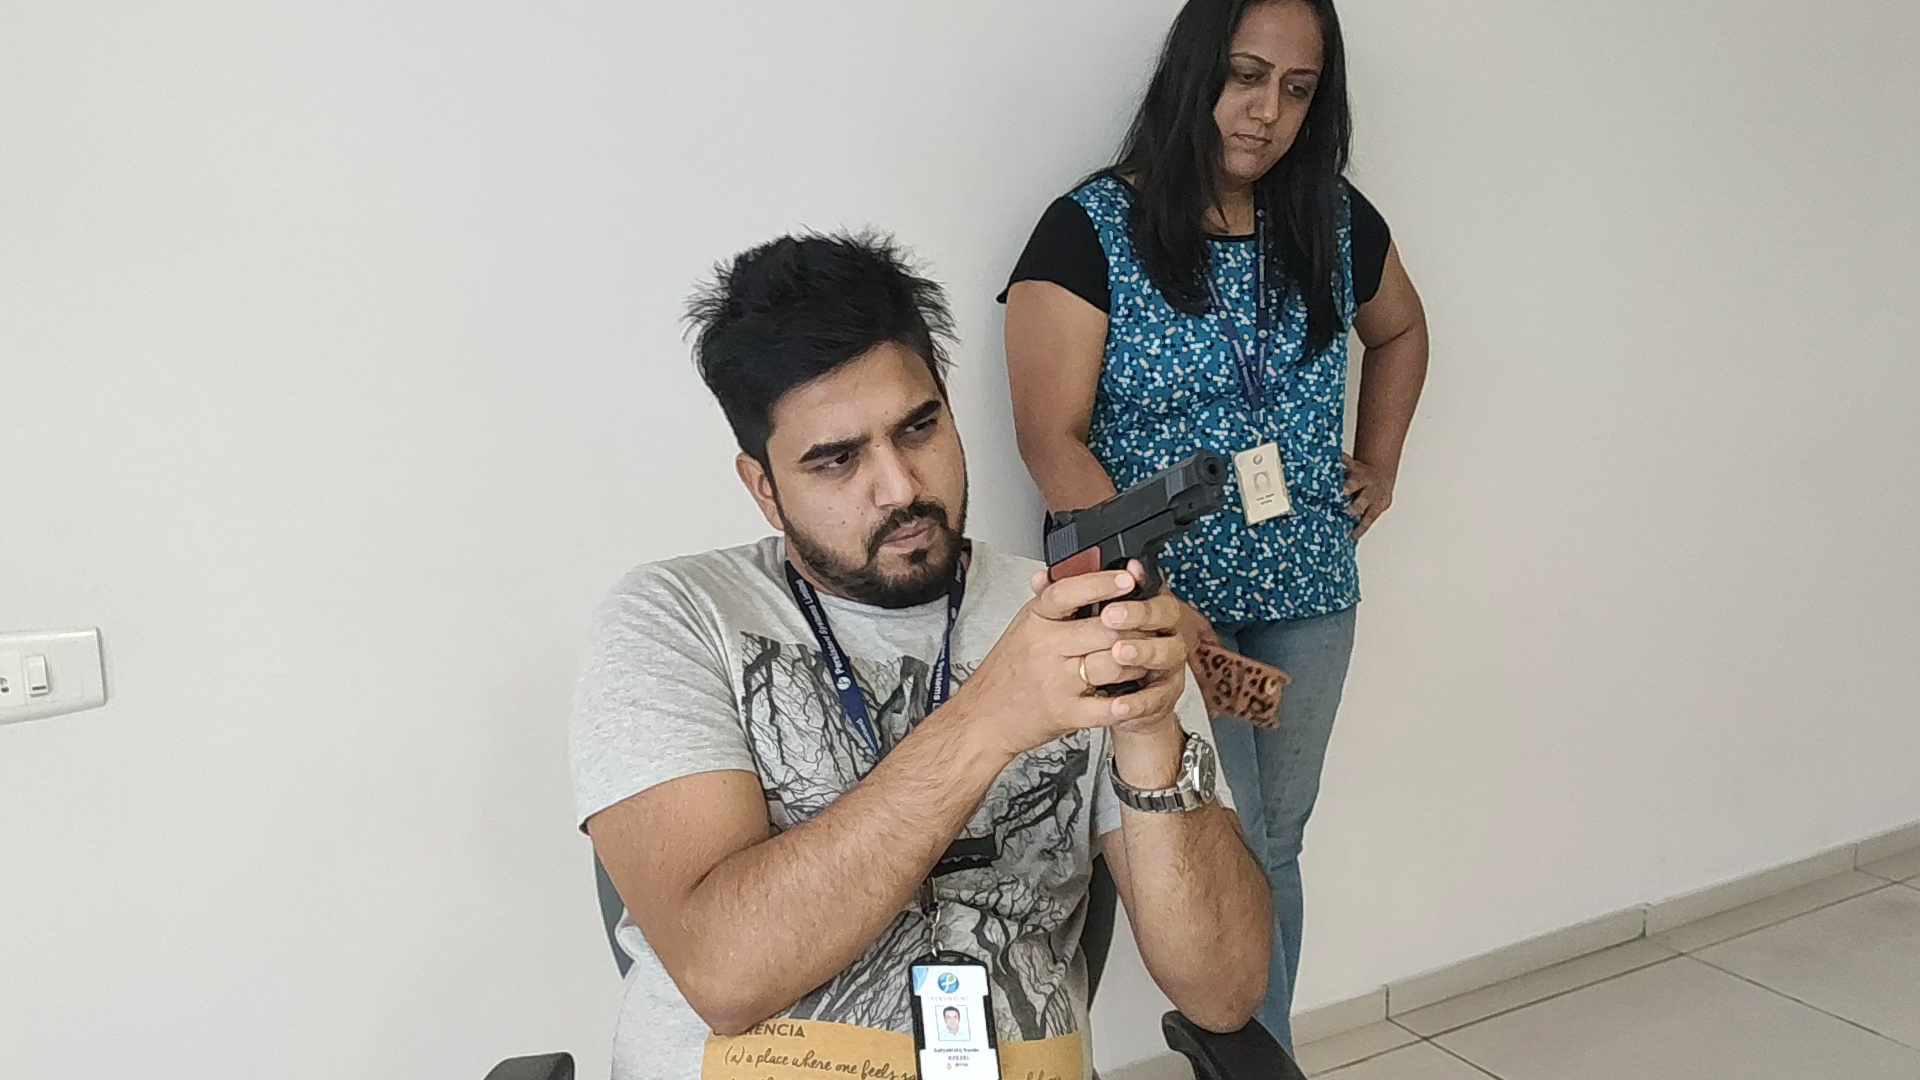gun: (1040, 448, 1229, 558)
